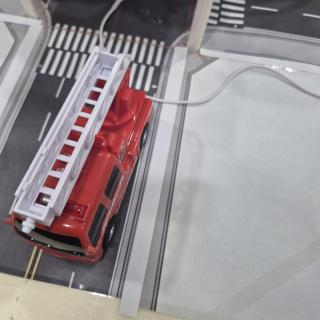Fire_truck: (4, 46, 153, 262)
